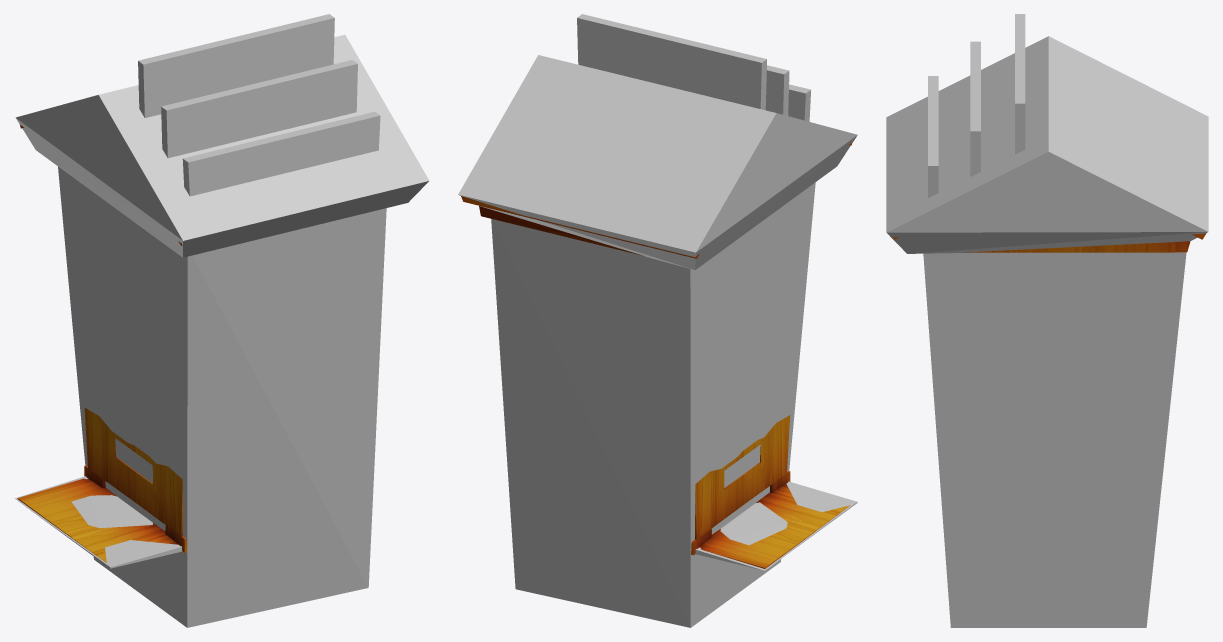
File: SM_BeeHive02.fbx
3 renders of one model, left to right at view 1: azimuth 30°, elevation 25°; view 2: azimuth 150°, elevation 25°; view 3: azimuth 270°, elevation 25°, orthographic. The views are drawn at different scales.
Parts seen in each view (by area): view 1: SM_BeeHive02_ConvexHulls, SM_BeeHive02; view 2: SM_BeeHive02_ConvexHulls, SM_BeeHive02; view 3: SM_BeeHive02_ConvexHulls, SM_BeeHive02.
Part boxes in pixels (bbox=[...]): SM_BeeHive02_ConvexHulls: bbox=[14, 14, 429, 627]; SM_BeeHive02: bbox=[17, 125, 187, 562]; SM_BeeHive02_ConvexHulls: bbox=[458, 14, 857, 627]; SM_BeeHive02: bbox=[461, 142, 852, 568]; SM_BeeHive02_ConvexHulls: bbox=[886, 14, 1208, 627]; SM_BeeHive02: bbox=[893, 233, 1206, 252].
Bounding box in the file's own units: 81.95 × 84.18 × 151.
2 materials, 1 textured.
